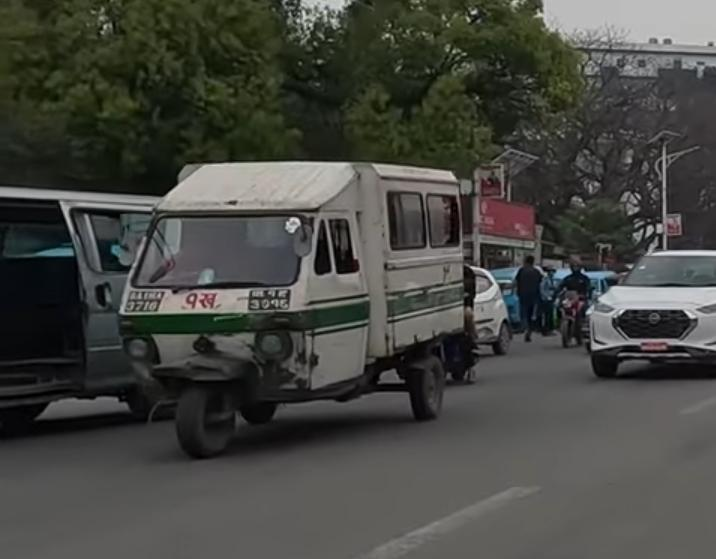bike: (553, 289, 592, 350)
car: (586, 242, 716, 392)
tempo: (122, 152, 479, 466)
